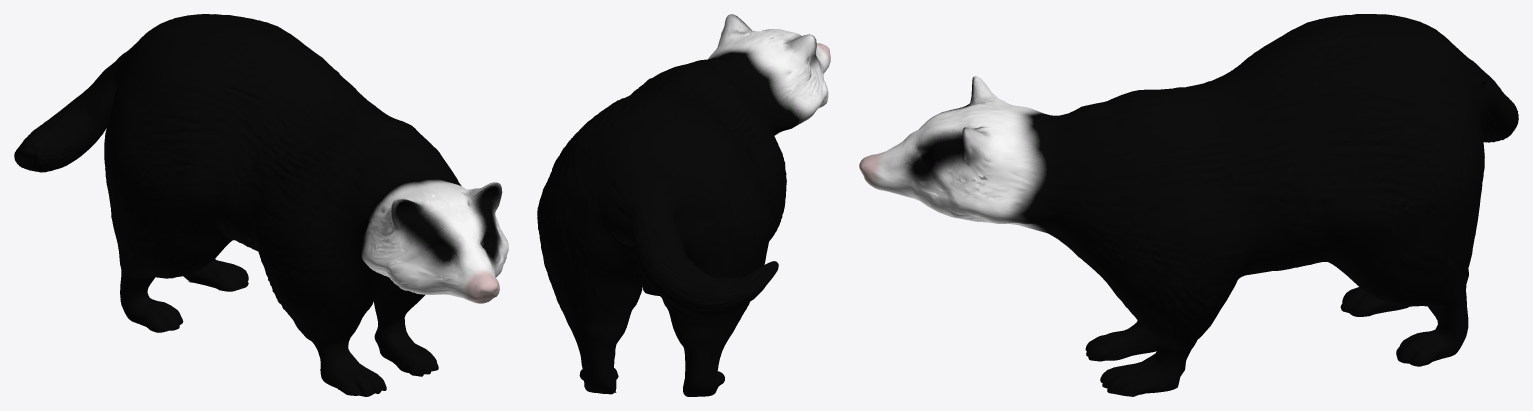
The model's file is gonsplitters-badger-source-preview.glb.
3 views of the same model, side by side, from view 1: azimuth 30°, elevation 25°; view 2: azimuth 150°, elevation 25°; view 3: azimuth 270°, elevation 25° (orthographic). The views are drawn at different scales.
Visible parts, largest first — view 1: gonsplitters-badger-source; view 2: gonsplitters-badger-source; view 3: gonsplitters-badger-source.
Boxes of the visible parts, x1,y1,x2,y2 form: gonsplitters-badger-source: (14, 14, 508, 396); gonsplitters-badger-source: (537, 14, 830, 396); gonsplitters-badger-source: (859, 14, 1518, 396).
Size of the model in its own units: 0.4621 by 0.4065 by 0.7731.
1 material, 1 textured.
